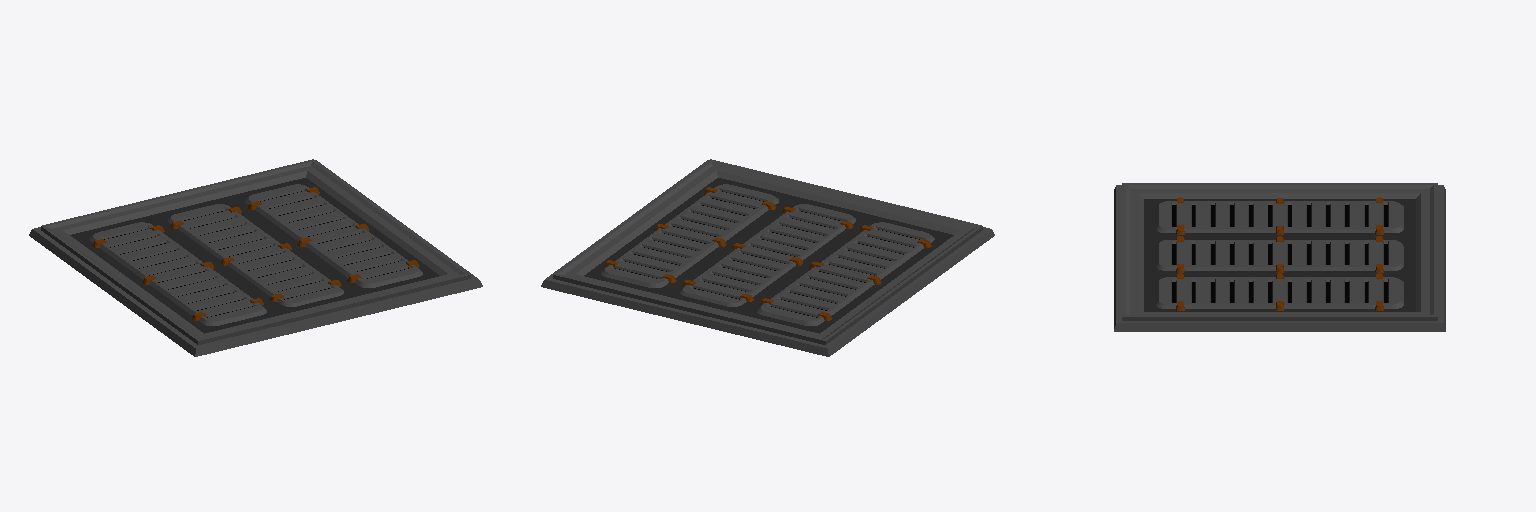
Rendered from RoofTile_Vents.obj.
3 views of the same model, side by side, from view 1: azimuth 30°, elevation 25°; view 2: azimuth 150°, elevation 25°; view 3: azimuth 270°, elevation 25° (orthographic).
Visible parts, largest first — view 1: RoofTile_Vents_Plane.121; view 2: RoofTile_Vents_Plane.121; view 3: RoofTile_Vents_Plane.121.
Part boxes in pixels (x1,y1,x2,y2): RoofTile_Vents_Plane.121: (29, 159, 482, 356); RoofTile_Vents_Plane.121: (541, 159, 994, 356); RoofTile_Vents_Plane.121: (1114, 183, 1445, 331).
Size of the model in its own units: 2 by 0.0773 by 2.